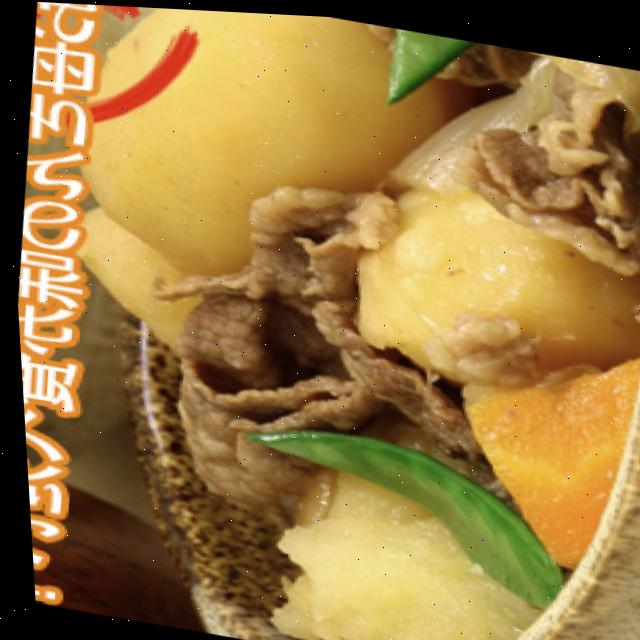牛肉菜式: (48, 2, 640, 640)
